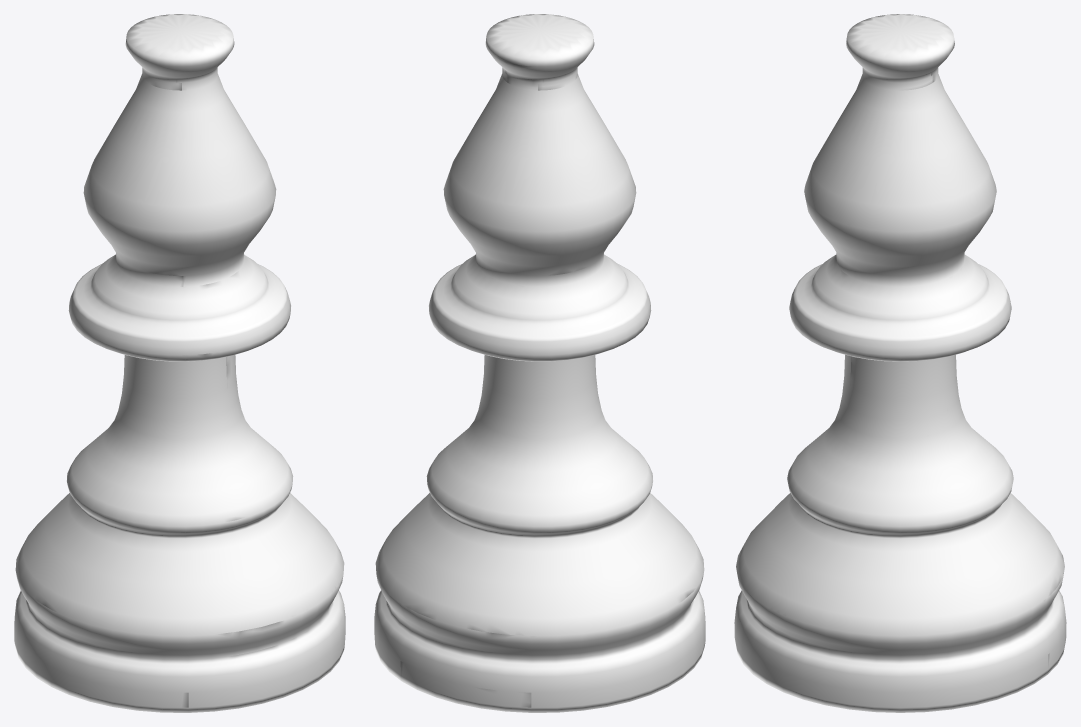
The model's file is Bishop_White.fbx.
The picture shows the model from 3 angles, left to right: view 1: azimuth 30°, elevation 25°; view 2: azimuth 150°, elevation 25°; view 3: azimuth 270°, elevation 25°; orthographic projection.
Visible parts, largest first — view 1: pCylinder13.001; view 2: pCylinder13.001; view 3: pCylinder13.001.
Part boxes in pixels (x1,y1,x2,y2): pCylinder13.001: (14, 14, 345, 712); pCylinder13.001: (374, 14, 705, 712); pCylinder13.001: (734, 14, 1066, 712).
Size of the model in its own units: 1.99 by 4.05 by 1.99.
